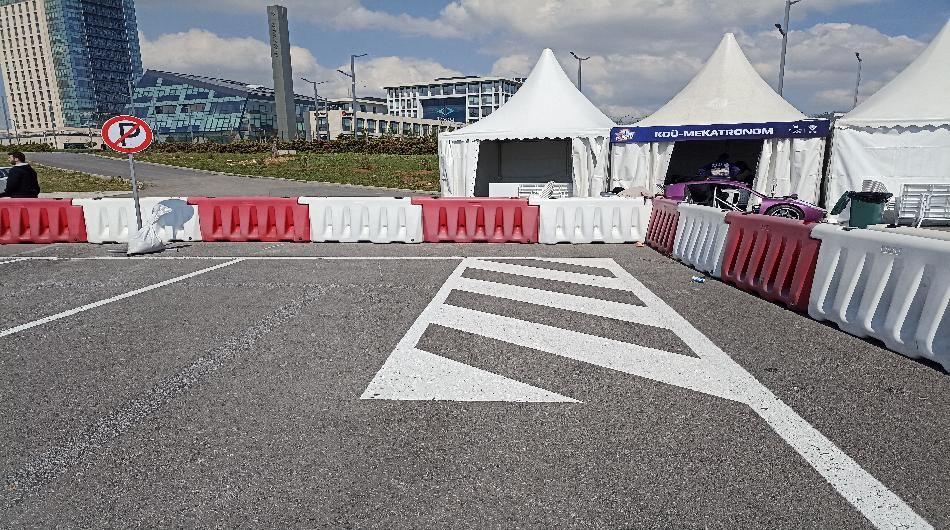park_yapilmaz_3: (100, 117, 151, 152)
park_yapilmaz_yerde: (360, 249, 782, 403)
